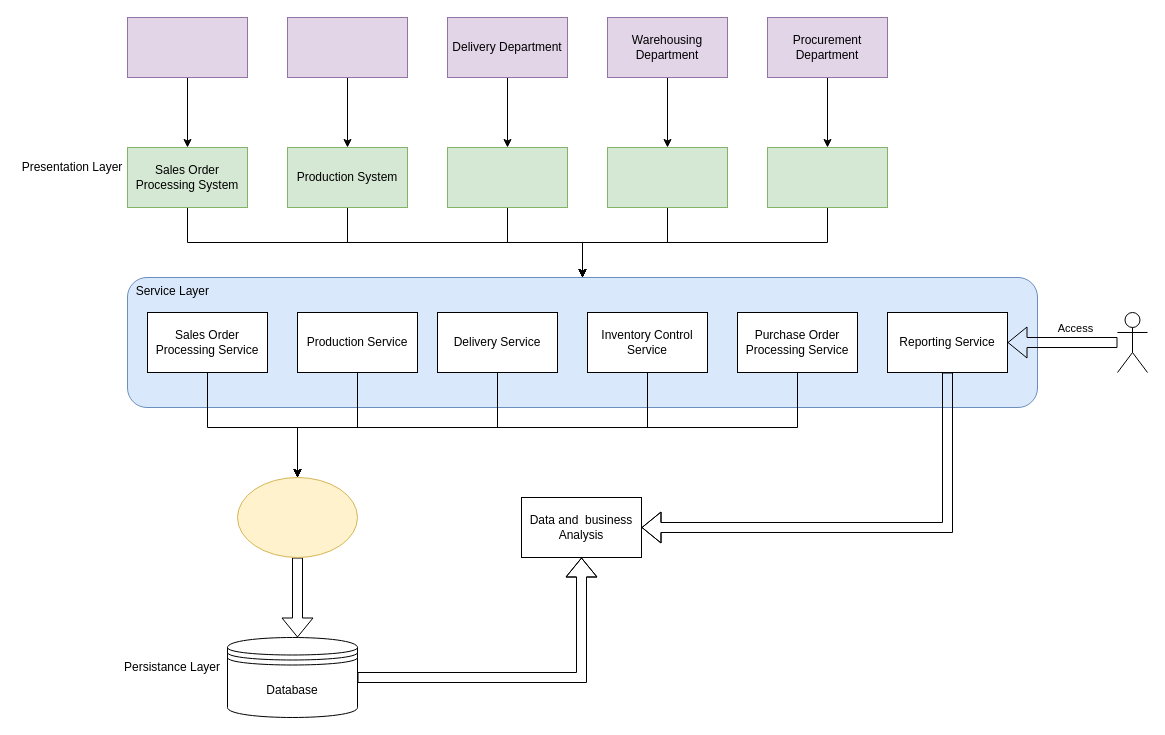
Some shapes in this 1165 by 735 pixel diagram are drawn without their labels. Each missing label, with the box of its shape:
Cache: (236, 476, 358, 558)
Delivery System: (446, 146, 568, 208)
Inventory Control Sytem: (606, 146, 728, 208)
Production Department: (286, 16, 408, 78)
Purchase Order Processing Sytem: (766, 146, 888, 208)
Sales & Marketing Department: (126, 16, 248, 78)
User: (1116, 312, 1148, 372)
